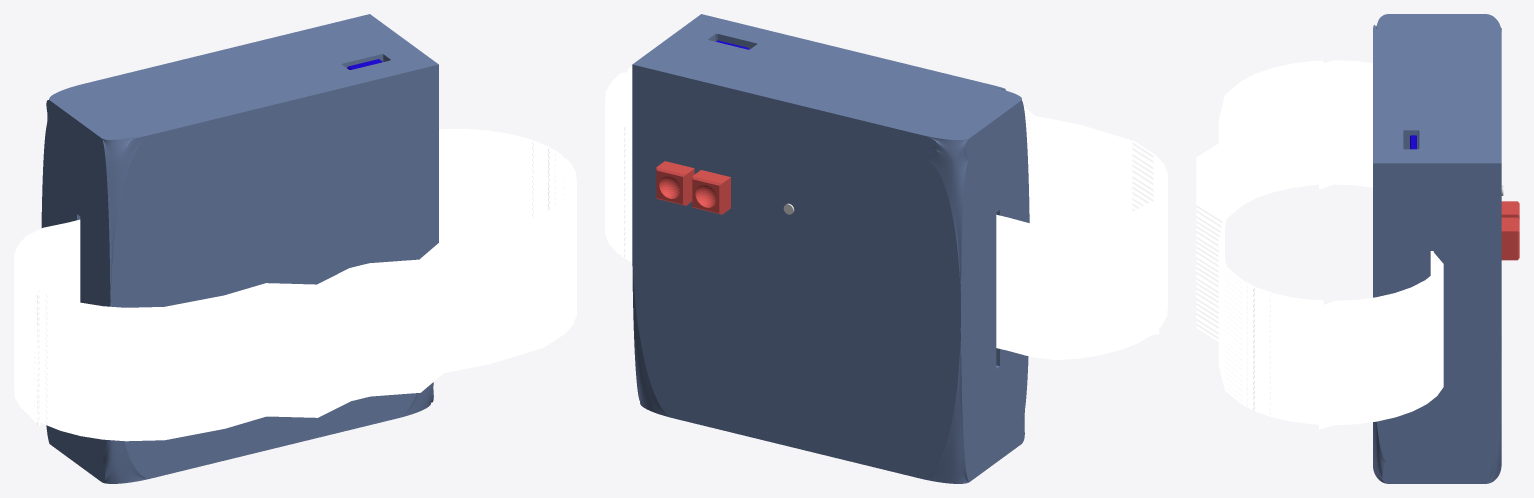
File: maincase.glb
3 renders of one model, left to right at view 1: azimuth 30°, elevation 25°; view 2: azimuth 150°, elevation 25°; view 3: azimuth 270°, elevation 25°, orthographic. The views are drawn at different scales.
Parts seen in each view (by area): view 1: maincase, Cylinder.010; view 2: maincase, Cylinder.010, Cube.003; view 3: Cylinder.010, maincase, Cube.003.
Boxes of the visible parts, left/top/right/bottom form: maincase: left=41, top=14, right=438, bottom=483; Cylinder.010: left=14, top=128, right=576, bottom=441; maincase: left=632, top=14, right=1029, bottom=483; Cylinder.010: left=605, top=66, right=1167, bottom=360; Cube.003: left=656, top=161, right=730, bottom=214; Cylinder.010: left=1196, top=60, right=1443, bottom=429; maincase: left=1373, top=14, right=1501, bottom=483; Cube.003: left=1501, top=201, right=1519, bottom=260.
Size of the model in its own units: 0.1786 by 0.11 by 0.1006.
